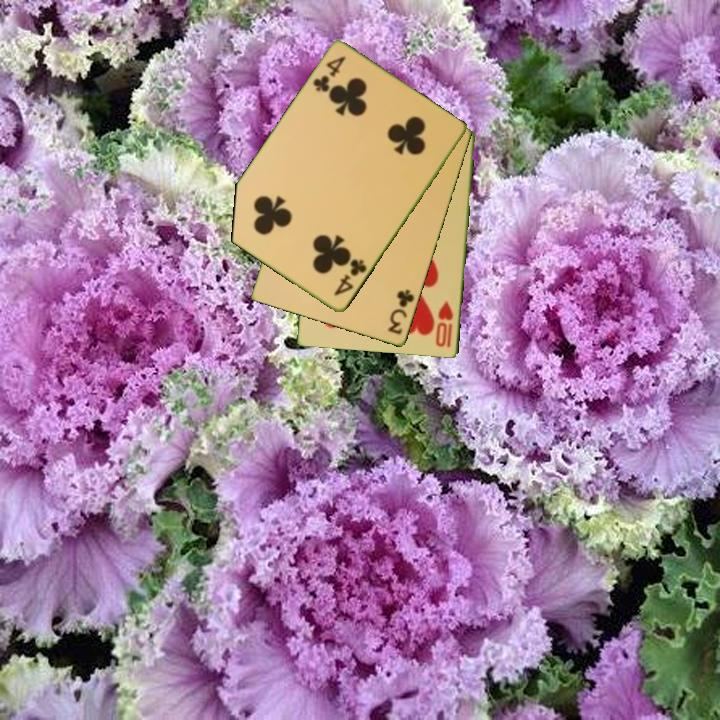10h: (432, 298, 456, 350)
3c: (384, 286, 417, 338)
4c: (330, 255, 370, 299), (309, 53, 349, 96)
